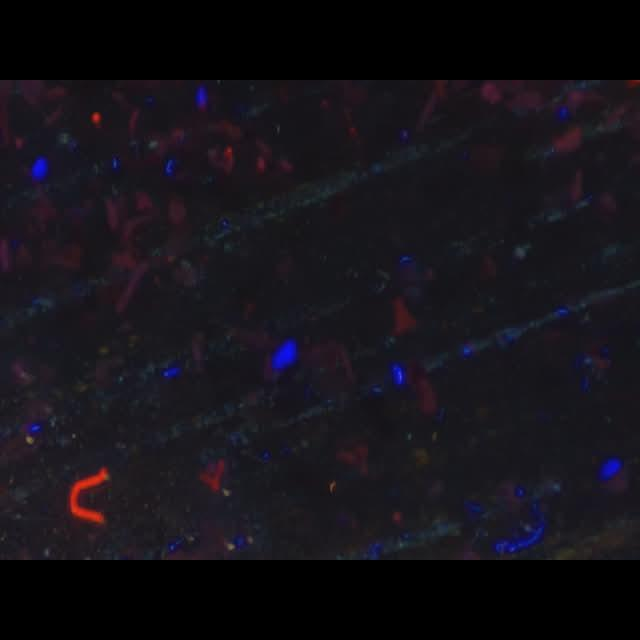Fragment: (70, 467, 106, 525)
